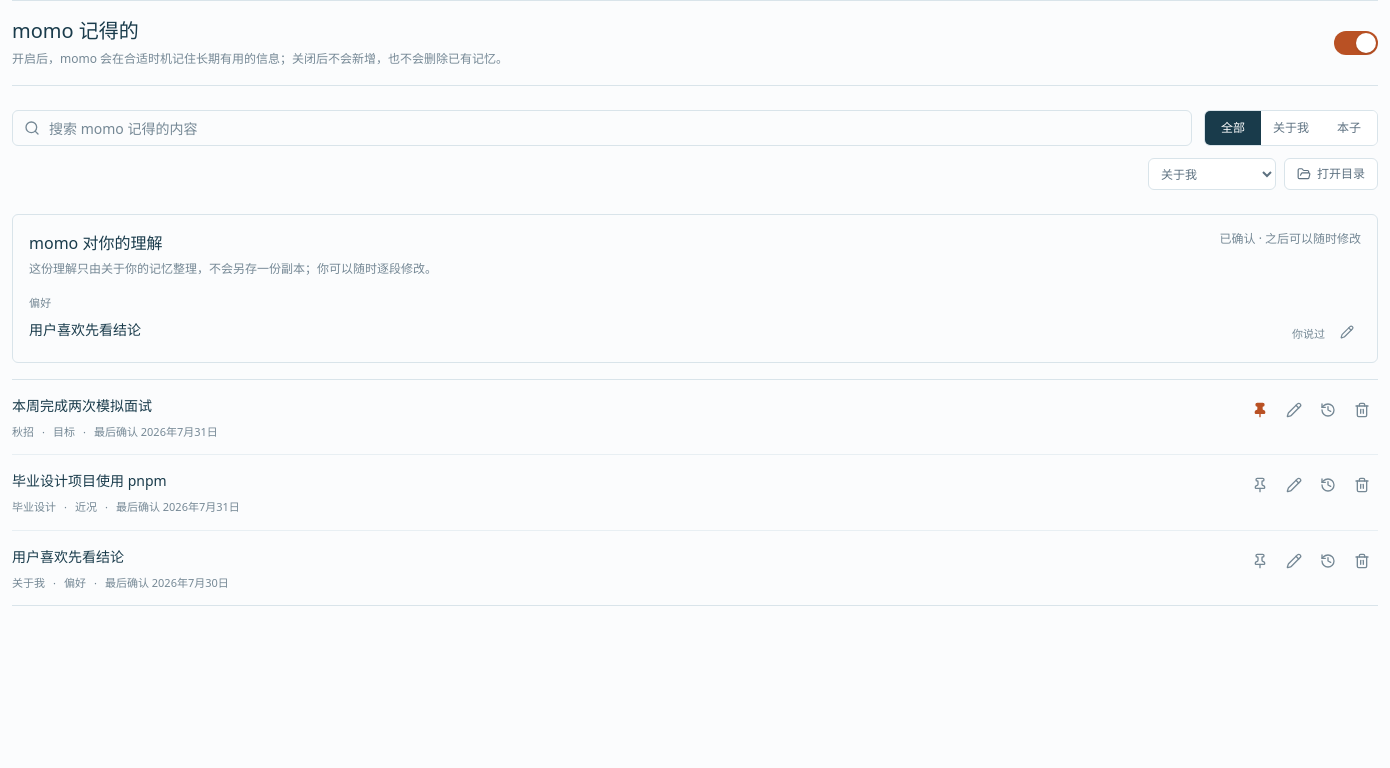
Scenario: MemorySettingsSection › filters global memory from all book memory and distinguishes an empty search
The image size is (1390, 768).
Click the button with aria-label "只看关于我的记忆" at (1291,128), box [1261,111,1321,145]
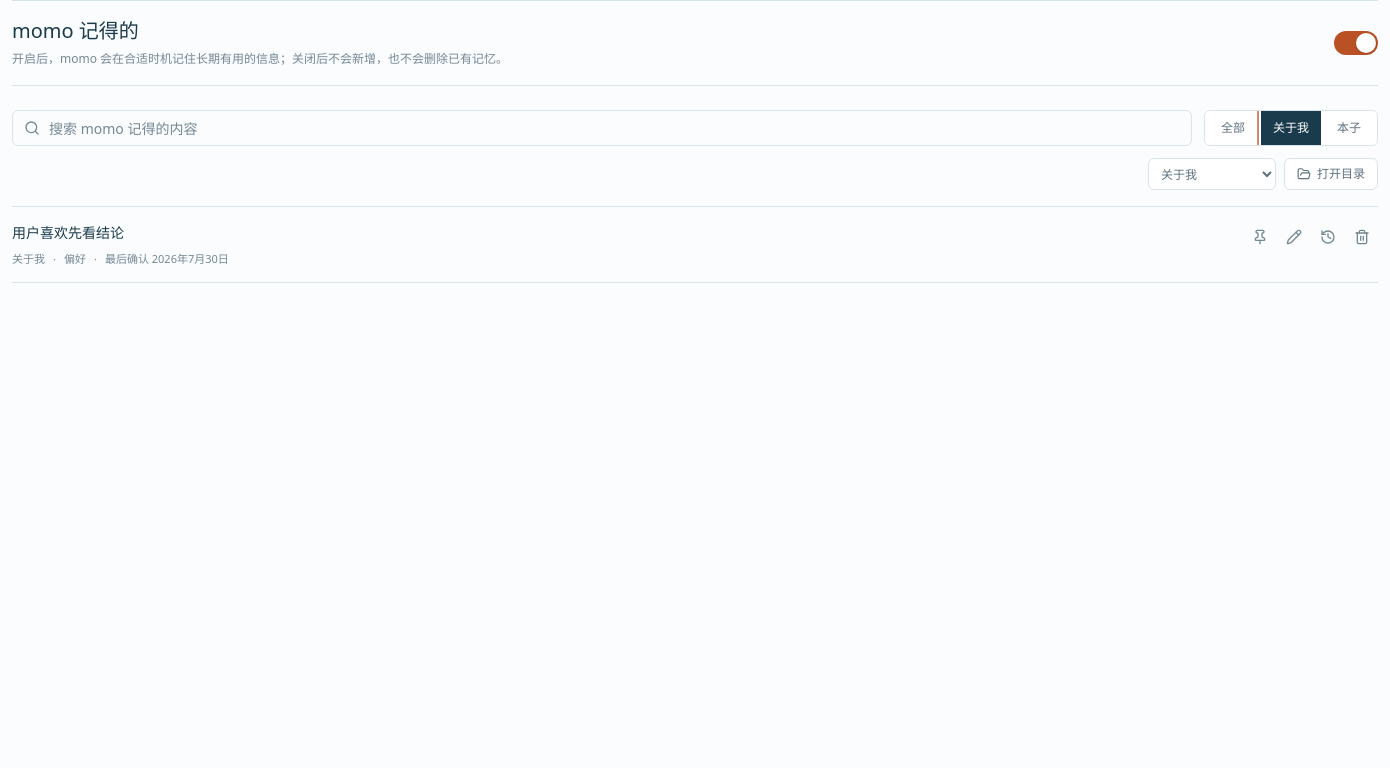
Expected: the text "用户喜欢先看结论" is shown, [12,223,124,242]
Now the text "本周完成两次模拟面试" is gone
Click the button with aria-label "只看本子记忆" at (1349,128), box [1321,111,1377,145]
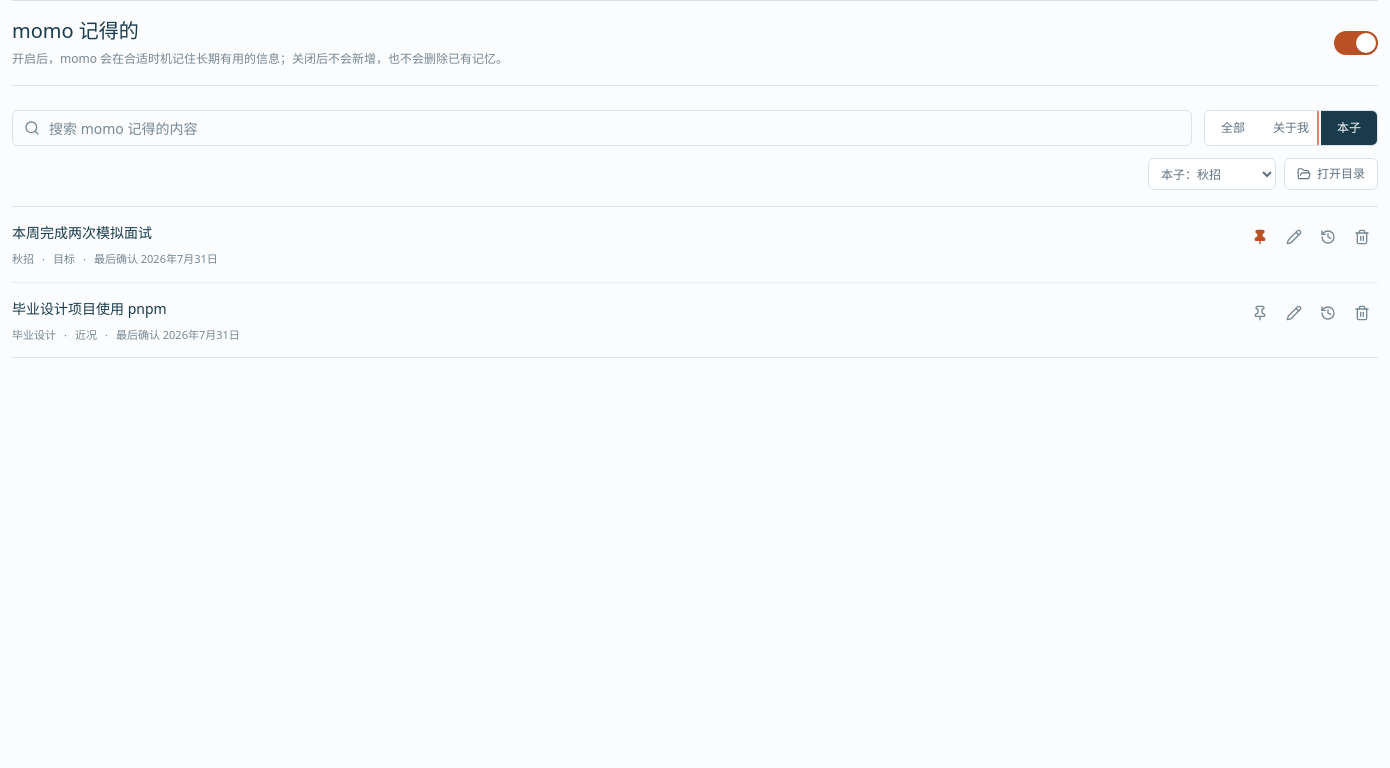
Now the text "用户喜欢先看结论" is gone
Now the text "本周完成两次模拟面试" is shown, box [12,223,152,242]
Now the text "毕业设计项目使用 pnpm" is shown, box [12,298,167,318]
Type "完全不存在的内容" into the search field named "搜索记忆" at (602,128), box [12,110,1192,146]
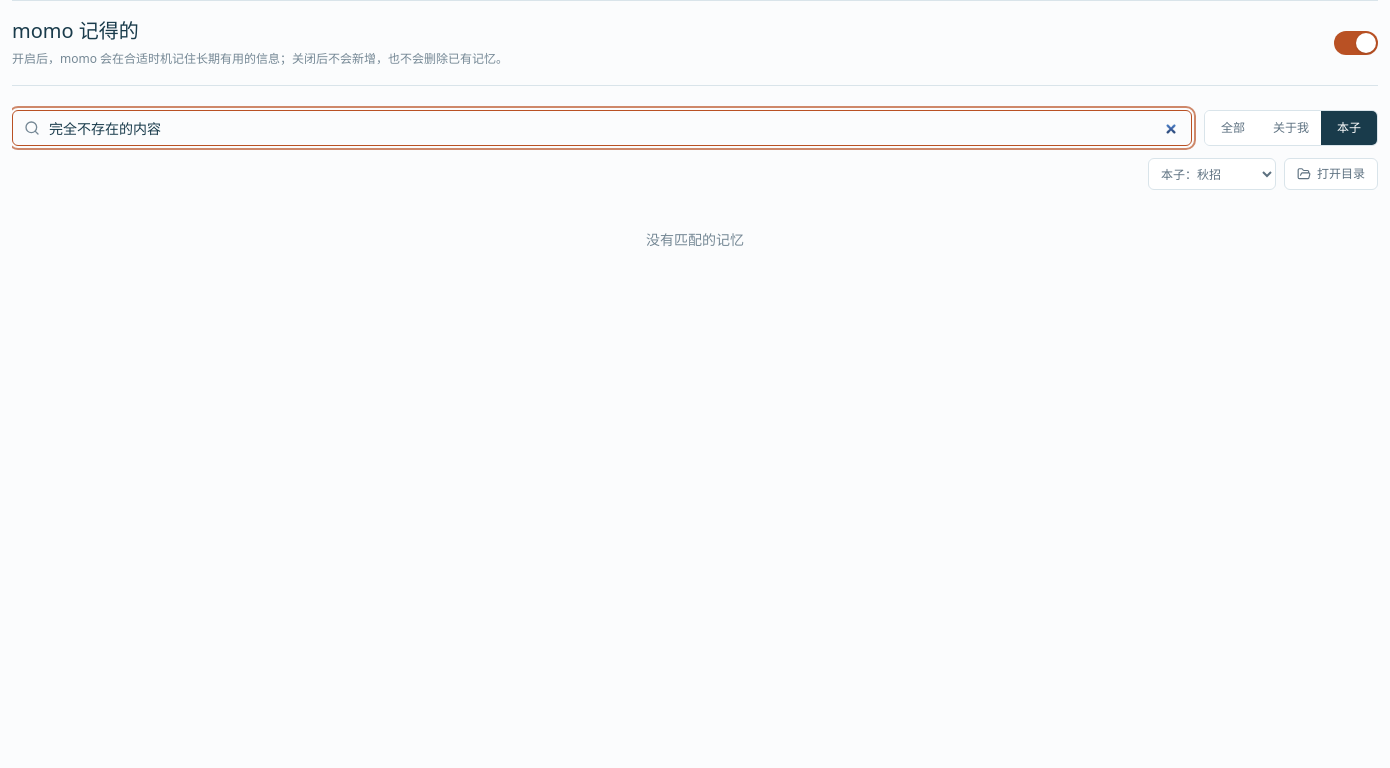
Now the text "没有匹配的记忆" is shown, box [646,230,744,249]
